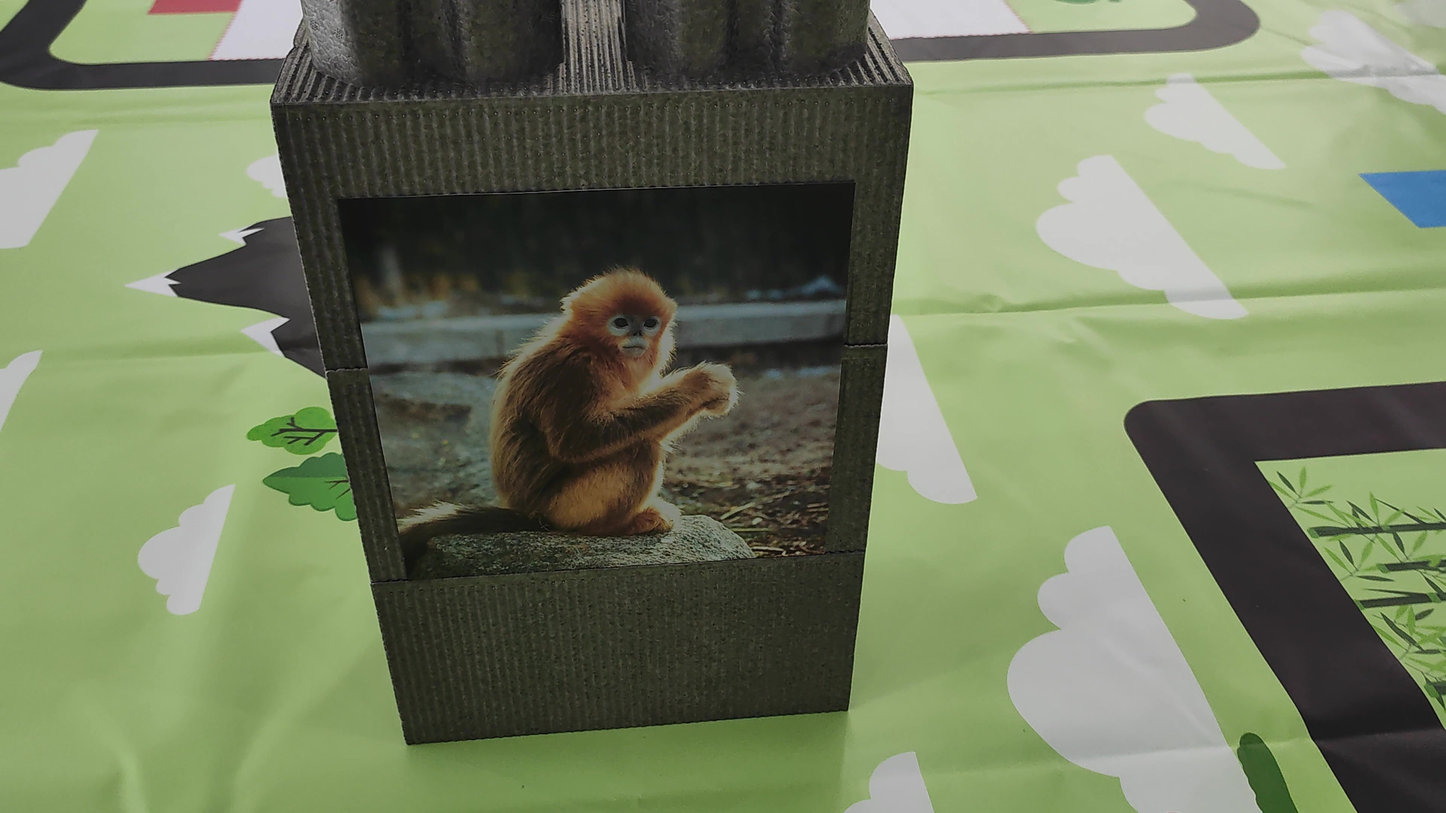monkey: (411, 234, 751, 578)
